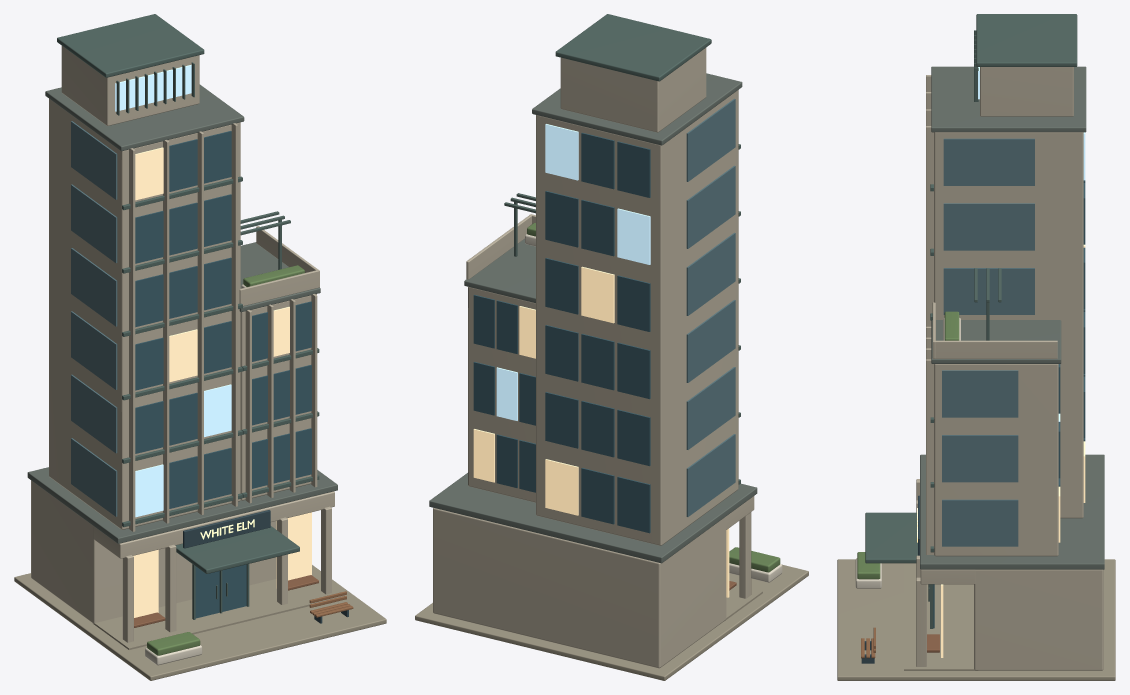
Rendered from office.glb.
3 renders of one model, left to right at view 1: azimuth 30°, elevation 25°; view 2: azimuth 150°, elevation 25°; view 3: azimuth 270°, elevation 25°, orthographic. The views are drawn at different scales.
Visible parts, largest first — view 1: office_Main_Tower_Stone_Core, office_Podium_Back, office_Forecourt, office_Crown_Screen_Cap, office_Main_Tower_Roof_Coping, office_Lobby_Floor, office_Podium_Coping, office_Inset_Crown, office_Arrival_Canopy, office_East_Wing_Stone_Core, office_Lobby_Soffit, office_Continuous_Stone_Fin (+61 smaller); view 2: office_Main_Tower_Stone_Core, office_Podium_Back, office_Inset_Crown, office_Podium_Coping, office_Crown_Screen_Cap, office_Forecourt, office_East_Wing_Stone_Core, office_Main_Tower_Roof_Coping, office_East_Wing_Roof_Coping, office_Corner_Return_Glass.002, office_Corner_Return_Glass.006, office_Corner_Return_Glass.004 (+33 smaller); view 3: office_Main_Tower_Stone_Core, office_East_Wing_Stone_Core, office_Podium_Back, office_Forecourt, office_Podium_Coping, office_Main_Tower_Roof_Coping, office_Crown_Screen_Cap, office_Lobby_Floor, office_Inset_Crown, office_Corner_Return_Glass.009, office_Corner_Return_Glass.011, office_Corner_Return_Glass.007 (+12 smaller).
Boxes of the visible parts, <box> form: office_Main_Tower_Stone_Core: <box>49,99,240,529</box>; office_Podium_Back: <box>31,480,276,623</box>; office_Forecourt: <box>14,565,386,680</box>; office_Crown_Screen_Cap: <box>57,14,204,77</box>; office_Main_Tower_Roof_Coping: <box>45,84,244,151</box>; office_Lobby_Floor: <box>93,573,342,649</box>; office_Podium_Coping: <box>27,467,337,543</box>; office_Inset_Crown: <box>61,46,199,125</box>; office_Arrival_Canopy: <box>175,526,299,573</box>; office_East_Wing_Stone_Core: <box>240,294,316,500</box>; office_Lobby_Soffit: <box>93,491,334,558</box>; office_Continuous_Stone_Fin: <box>129,148,135,531</box>; office_Main_Tower_Stone_Core: <box>536,90,738,545</box>; office_Podium_Back: <box>433,508,726,668</box>; office_Inset_Crown: <box>560,48,706,132</box>; office_Podium_Coping: <box>429,473,757,563</box>; office_Crown_Screen_Cap: <box>555,14,711,81</box>; office_Forecourt: <box>415,564,808,680</box>; office_East_Wing_Stone_Core: <box>468,287,535,502</box>; office_Main_Tower_Roof_Coping: <box>532,73,742,145</box>; office_East_Wing_Roof_Coping: <box>464,239,535,303</box>; office_Corner_Return_Glass.002: <box>686,367,735,449</box>; office_Corner_Return_Glass.006: <box>686,232,735,315</box>; office_Corner_Return_Glass.004: <box>686,300,735,382</box>; office_Main_Tower_Stone_Core: <box>934,132,1083,518</box>; office_East_Wing_Stone_Core: <box>934,364,1058,556</box>; office_Podium_Back: <box>974,569,1103,670</box>; office_Forecourt: <box>837,559,1115,680</box>; office_Podium_Coping: <box>920,454,1104,569</box>; office_Main_Tower_Roof_Coping: <box>931,66,1086,132</box>; office_Crown_Screen_Cap: <box>976,14,1077,66</box>; office_Lobby_Floor: <box>904,563,977,670</box>; office_Inset_Crown: <box>980,67,1073,116</box>; office_Corner_Return_Glass.009: <box>943,203,1034,250</box>; office_Corner_Return_Glass.011: <box>943,138,1034,185</box>; office_Corner_Return_Glass.007: <box>943,268,1034,314</box>.
Bounding box in the file's own units: 11.6 × 25.86 × 11.6.
